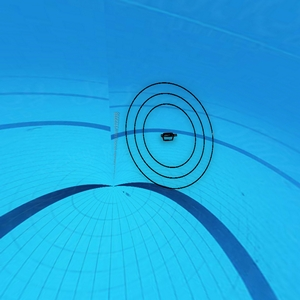submarine: (160, 130, 177, 143)
